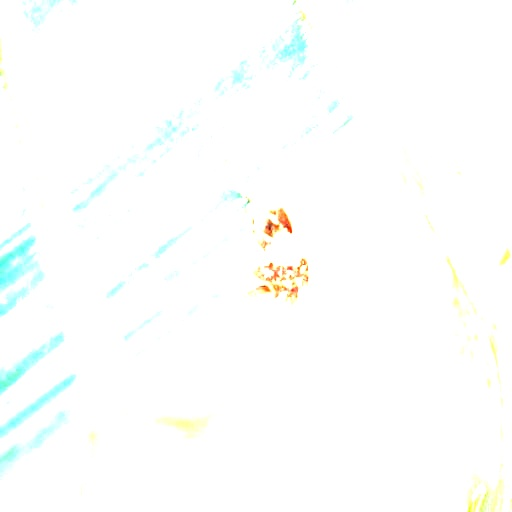Gray Mold: (225, 178, 349, 380)
